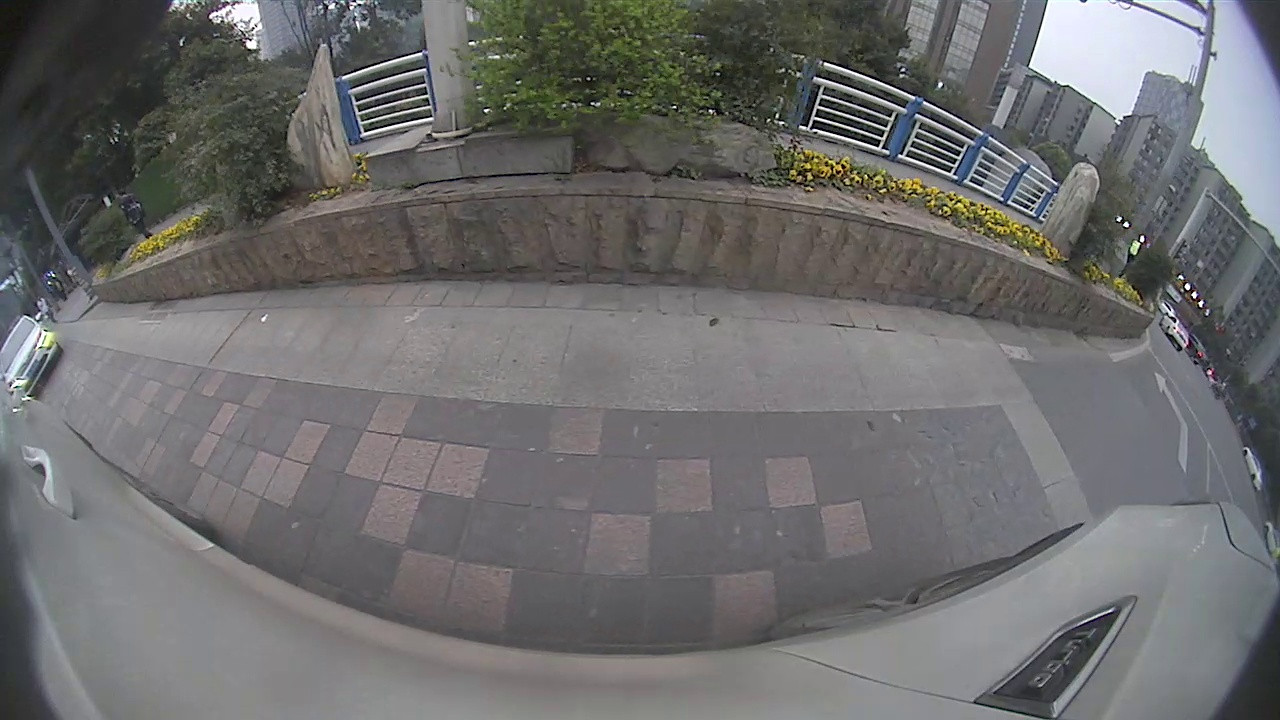car: (0, 310, 62, 397)
